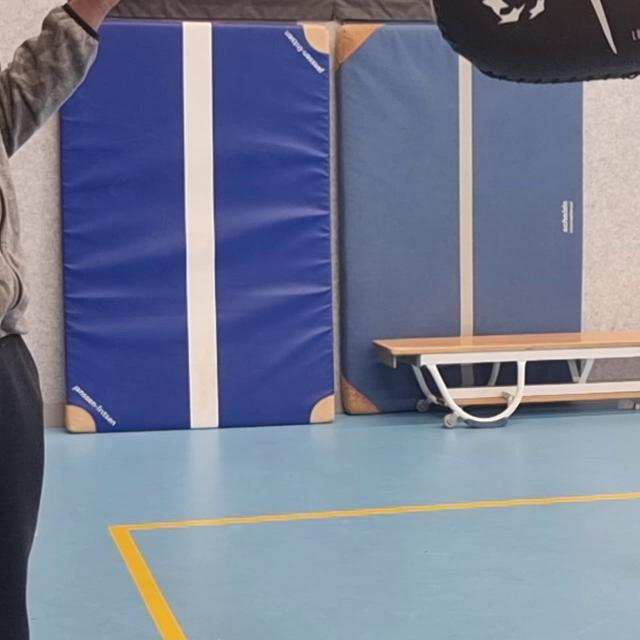paddle: (430, 0, 640, 84)
